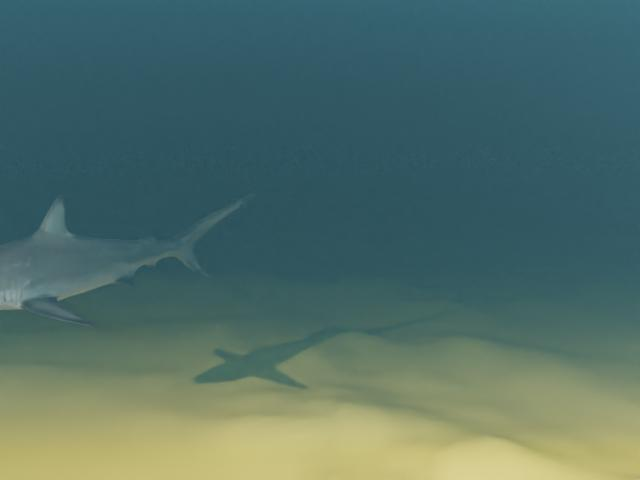Carribean Shark.001: (0, 193, 255, 326)
